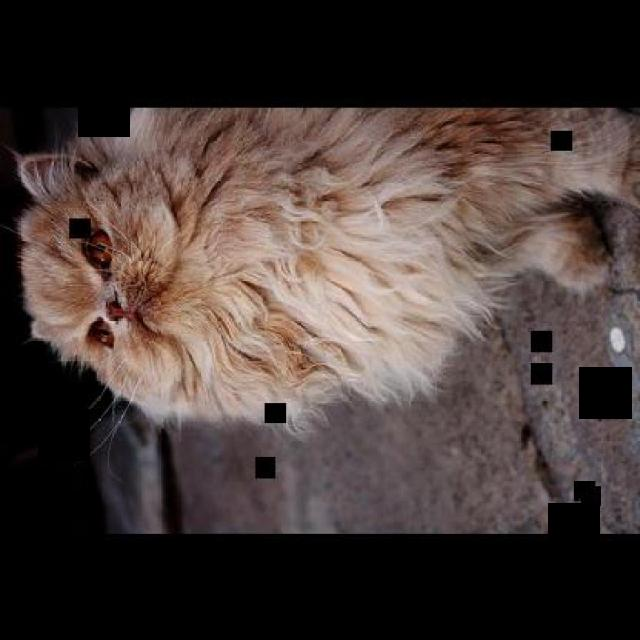unauthorized: (4, 105, 638, 452)
